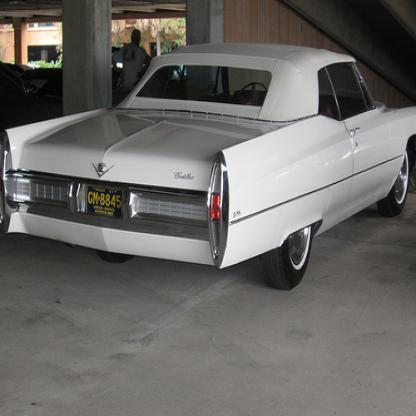car: (1, 41, 416, 292)
person: (112, 29, 153, 91)
